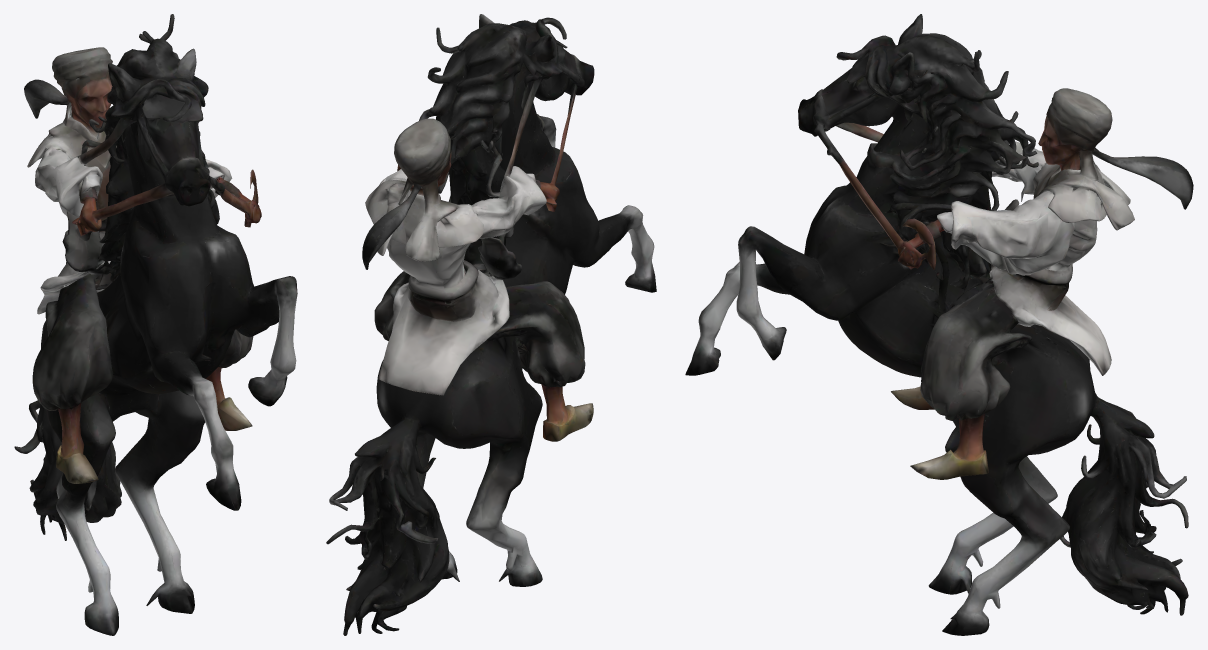
File: patung_kuda.glb
The picture shows the model from 3 angles, left to right: view 1: azimuth 30°, elevation 25°; view 2: azimuth 150°, elevation 25°; view 3: azimuth 270°, elevation 25°; orthographic projection. The views are drawn at different scales.
Visible parts, largest first — view 1: geometry_0; view 2: geometry_0; view 3: geometry_0.
Part boxes in pixels (x1,y1,x2,y2): geometry_0: [14, 14, 297, 635]; geometry_0: [326, 14, 656, 635]; geometry_0: [685, 14, 1193, 635].
Size of the model in its own units: 0.3819 by 1 by 0.796.
Materials: 1 (1 with a texture image).
